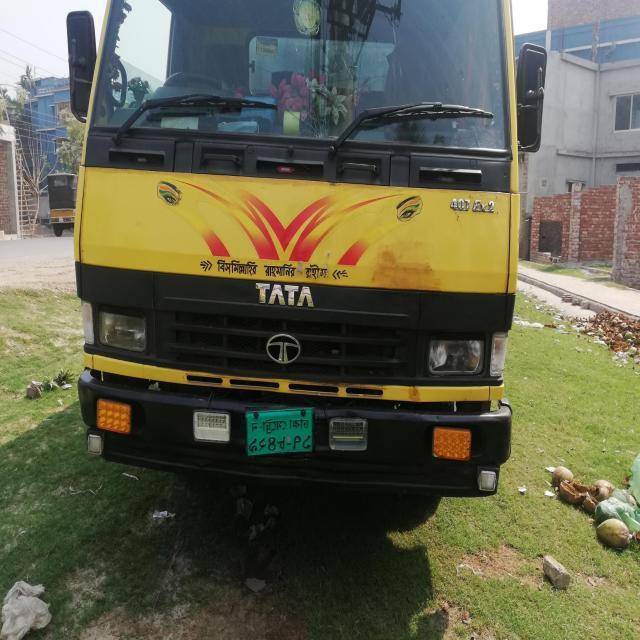numberplate: (245, 407, 315, 457)
